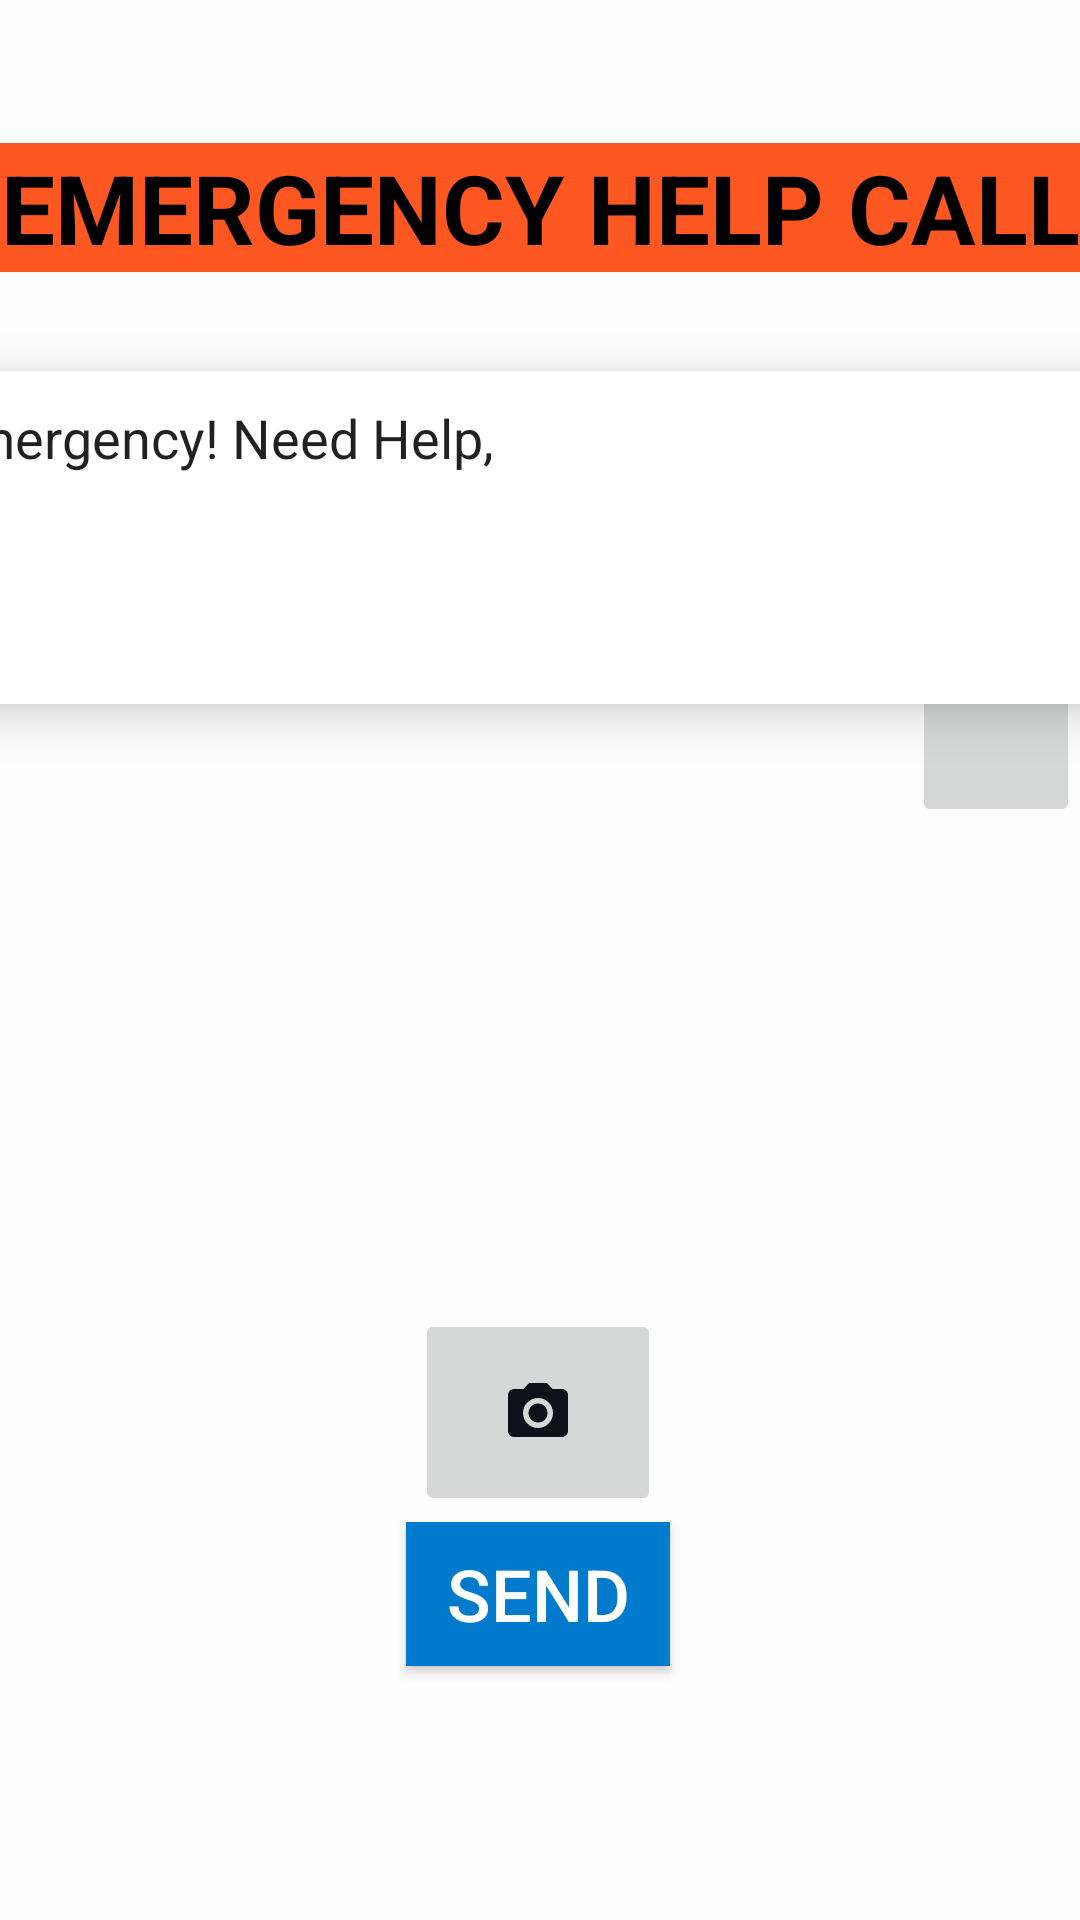

Named icons in this screenshot (1080*1920) and their bounding boxes, (x1, y1, x2, y2):
photo camera: (427, 1327, 649, 1498)
